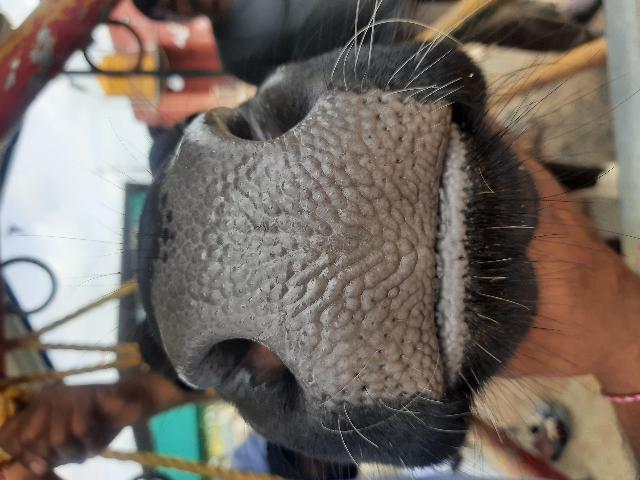Muzzle: (168, 149, 436, 335)
